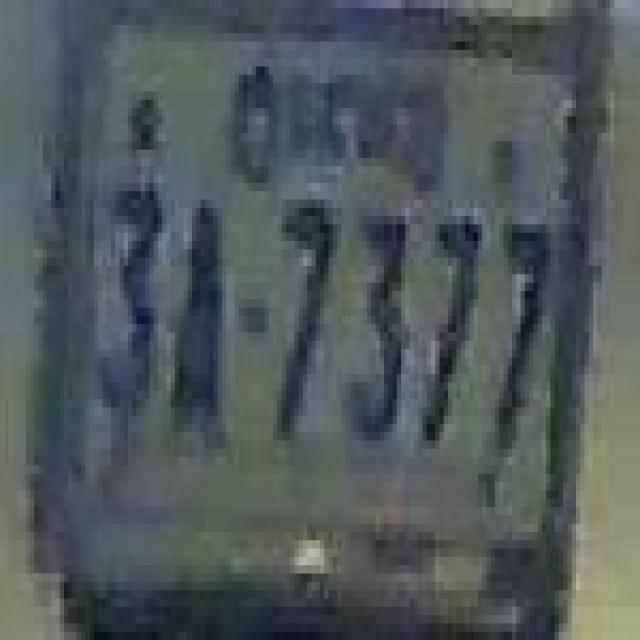Phnom_Penh: (235, 50, 448, 194)
